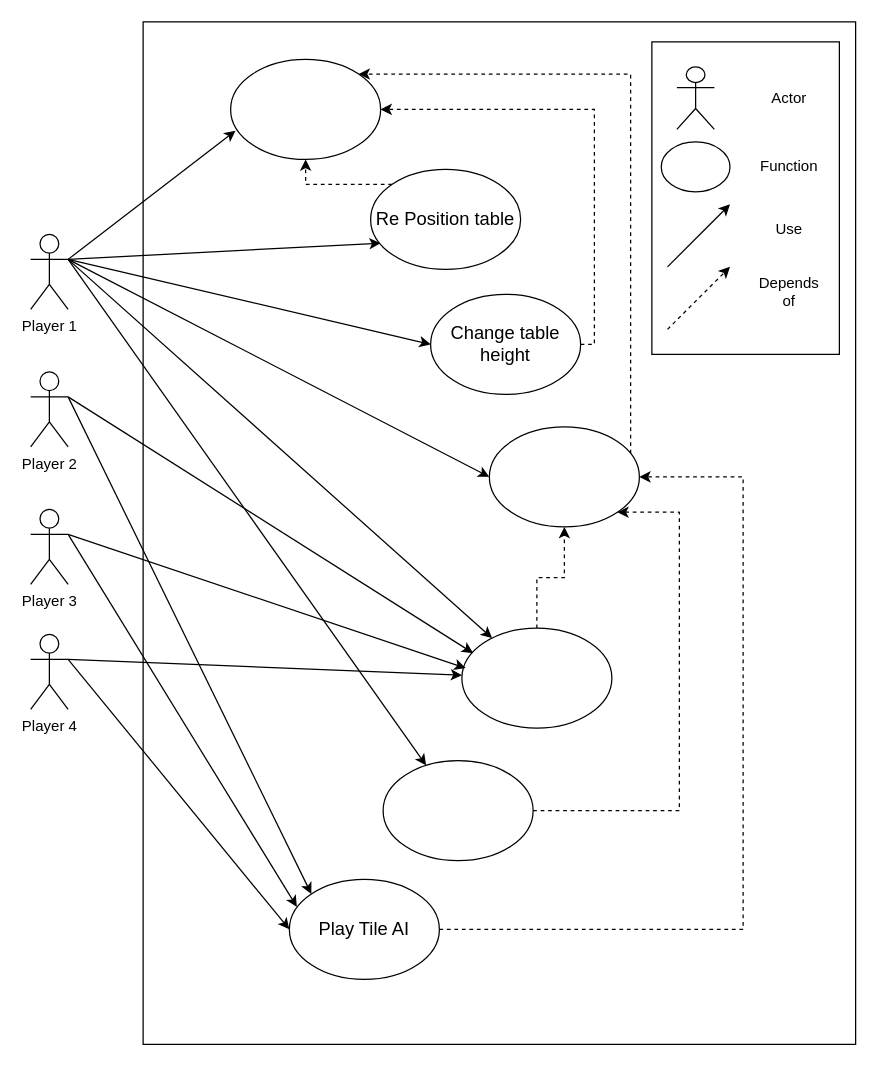
Some shapes in this 878 by 1066 pixel diagram are drawn without their labels. The shapes that lost their labels are listed below. From the top down, each one's box as (x1, y1, x2, y2) in pixels, then its label:
(229, 58, 381, 159): Position table
(488, 426, 639, 527): Start match
(461, 627, 612, 728): Pass
(382, 759, 533, 861): Play tile
